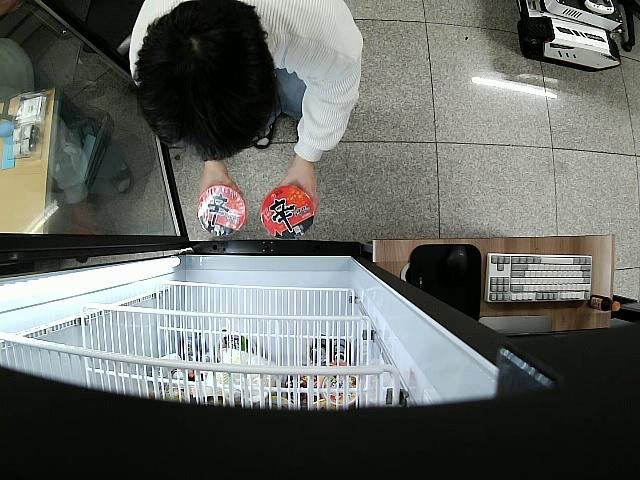00_hand: (277, 160, 320, 220), (196, 165, 240, 199)
01_shinRamen_L: (262, 185, 313, 239), (198, 185, 247, 237)
